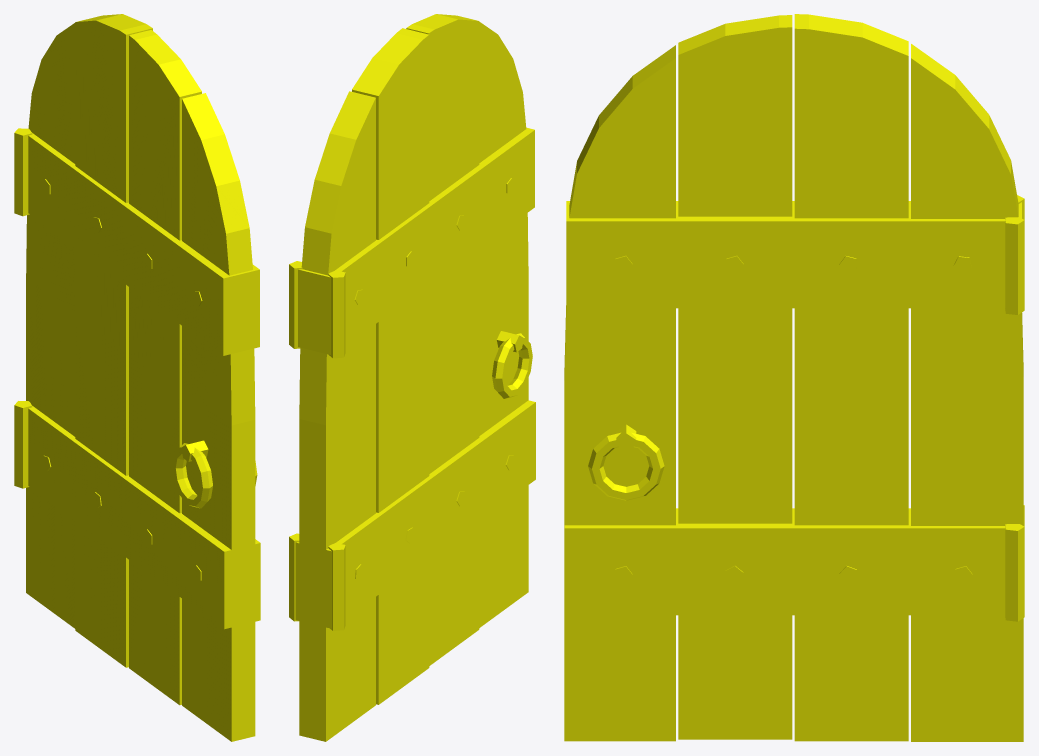
The model's file is Door.glb.
3 renders of one model, left to right at view 1: azimuth 30°, elevation 25°; view 2: azimuth 150°, elevation 25°; view 3: azimuth 270°, elevation 25°, orthographic. The views are drawn at different scales.
Visible parts, largest first — view 1: Door; view 2: Door; view 3: Door.
Boxes of the visible parts, left/top/right/bottom form: Door: left=14, top=14, right=260, bottom=741; Door: left=289, top=14, right=535, bottom=741; Door: left=564, top=14, right=1024, bottom=741.
Size of the model in its own units: 0.1945 by 2.01 by 1.18.
Materials: 2 (2 with a texture image).
